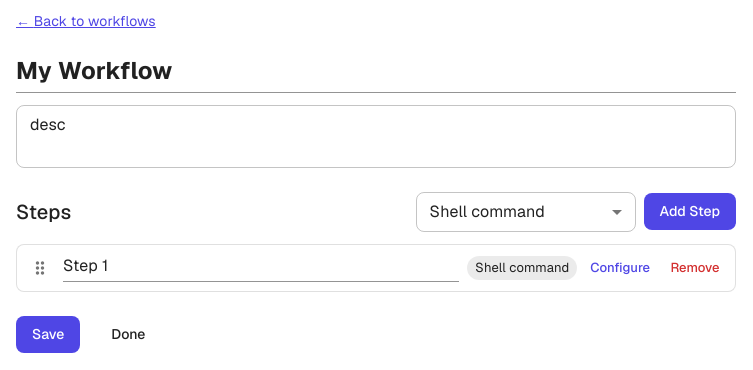
Test case: WorkflowEditor page › saves and shows a confirmation
Expected: the 1st field showing "My Workflow" is shown, [16,49,736,92]
What coordinates should you click on to do the following:
click the button "Save"
I would click on:
 (48, 335)
Its box is [16,316,80,353].
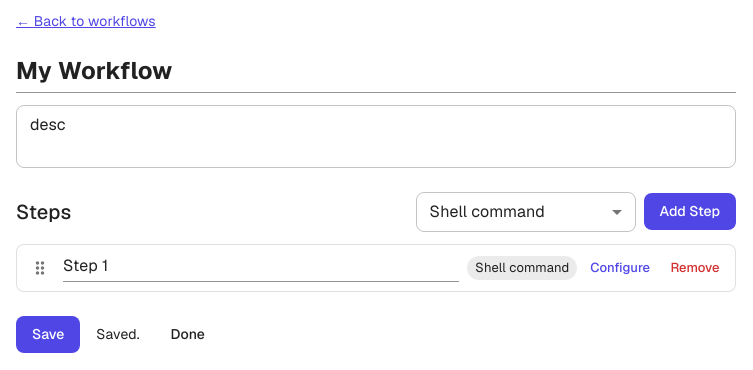
Now the text "Saved." is shown, box [96,324,140,344]
